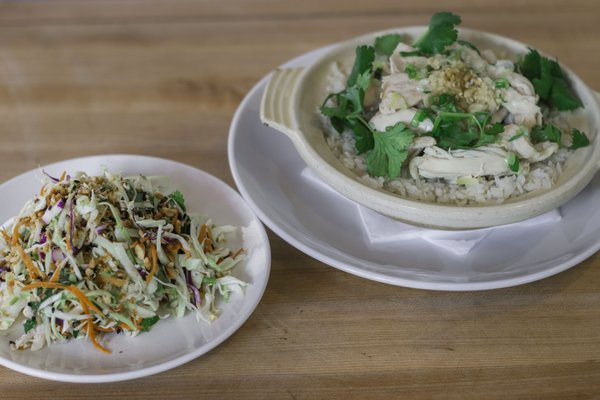sushi: (228, 23, 600, 292), (260, 12, 600, 229), (0, 152, 272, 383)
